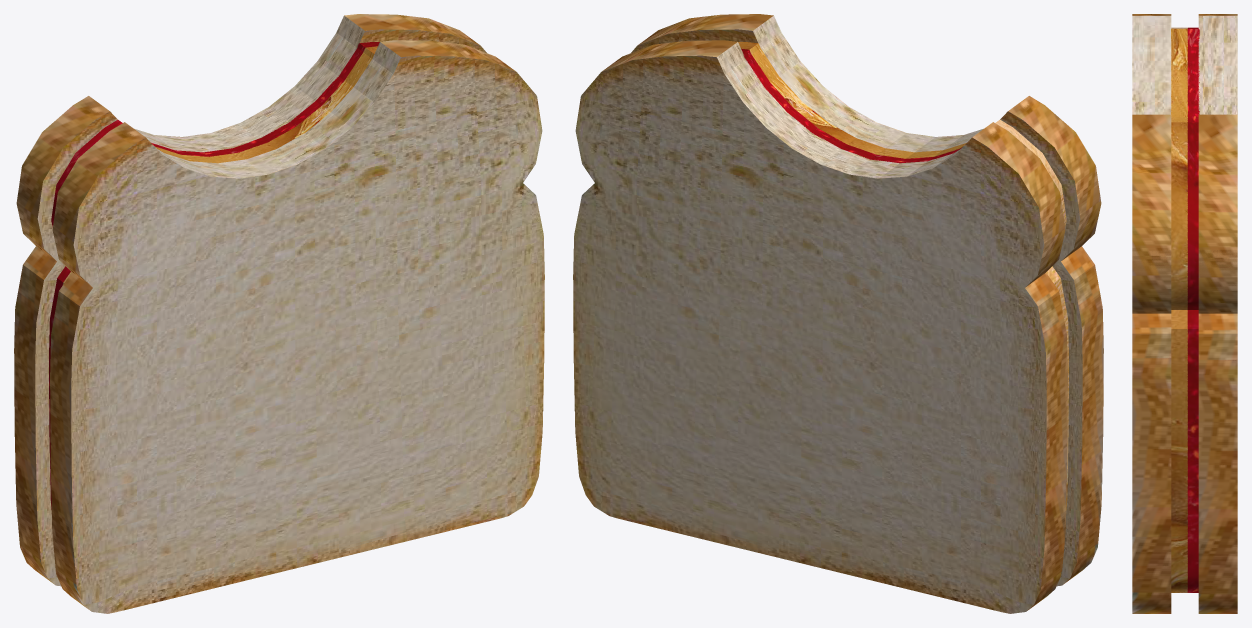
Rendered from EatinSandwichPack.fbx.
3 views of the same model, side by side, from view 1: azimuth 30°, elevation 25°; view 2: azimuth 150°, elevation 25°; view 3: azimuth 270°, elevation 25° (orthographic). The views are drawn at different scales.
Parts seen in each view (by area): view 1: SandwichBite1, SandwichBite2, SandwichBite4, SandwichBite3, SandwichBite6, SandwichBite5, SandwichBite7, SandwichBite8; view 2: SandwichBite1, SandwichBite2, SandwichBite4, SandwichBite7, SandwichBite6, SandwichBite3, SandwichBite5, SandwichBite8; view 3: SandwichBite1, SandwichBite2, SandwichBite3, SandwichBite5.
Part boxes in pixels (x1,y1,x2,y2): SandwichBite1: (14,14,544,613); SandwichBite2: (35,96,541,603); SandwichBite4: (16,103,541,431); SandwichBite3: (15,150,505,520); SandwichBite6: (16,337,528,587); SandwichBite5: (90,333,544,431); SandwichBite7: (39,360,448,589); SandwichBite8: (95,489,270,577); SandwichBite1: (573,14,1103,613); SandwichBite2: (573,96,1079,613); SandwichBite4: (577,128,1102,431); SandwichBite7: (667,393,1080,586); SandwichBite6: (642,337,1101,587); SandwichBite3: (575,124,1102,602); SandwichBite5: (574,303,1079,431); SandwichBite8: (847,492,1026,577); SandwichBite1: (1132,14,1237,613); SandwichBite2: (1132,14,1237,613); SandwichBite3: (1132,250,1237,278); SandwichBite5: (1132,478,1237,538).
Bounding box in the file's own units: 315 × 309 × 65.78.
